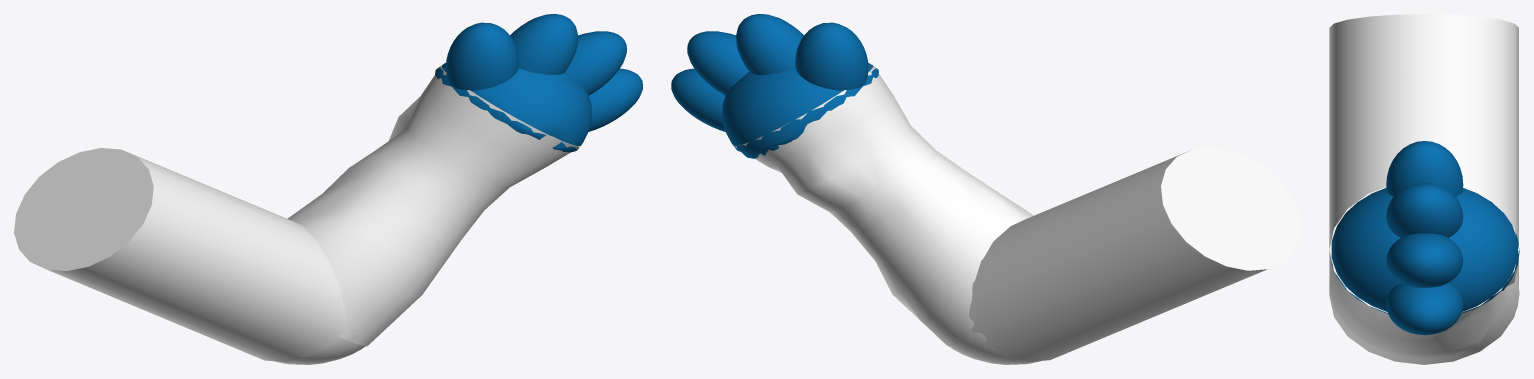
Rendered from brazoI_B.obj.
The picture shows the model from 3 angles, left to right: view 1: azimuth 30°, elevation 25°; view 2: azimuth 150°, elevation 25°; view 3: azimuth 270°, elevation 25°; orthographic projection. The views are drawn at different scales.
Visible parts, largest first — view 1: brazo_i; view 2: brazo_i; view 3: brazo_i.
Boxes of the visible parts, bbox=[...] form: brazo_i: bbox=[14, 14, 642, 364]; brazo_i: bbox=[671, 14, 1300, 364]; brazo_i: bbox=[1329, 14, 1519, 364].
Bounding box in the file's own units: 6.87 × 3.05 × 1.75.
